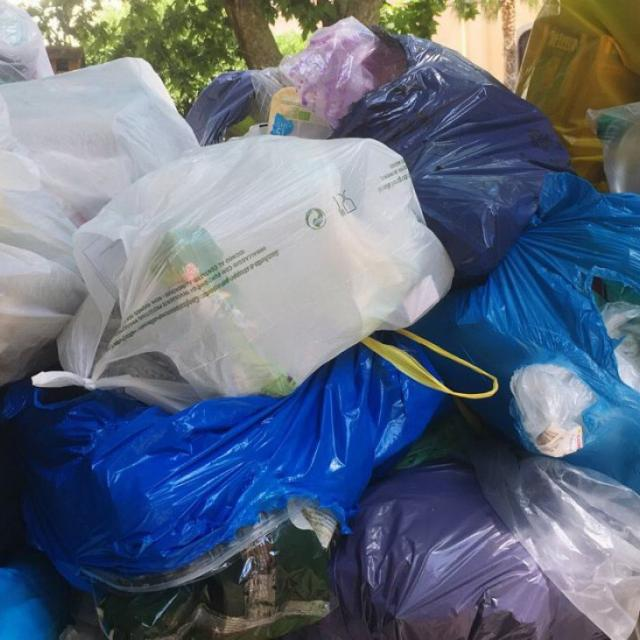Single-layer Plastic: (34, 136, 454, 410), (1, 344, 444, 589), (414, 172, 640, 493), (0, 59, 198, 384), (332, 35, 570, 284), (285, 464, 605, 639), (471, 442, 640, 640), (280, 18, 379, 127)
